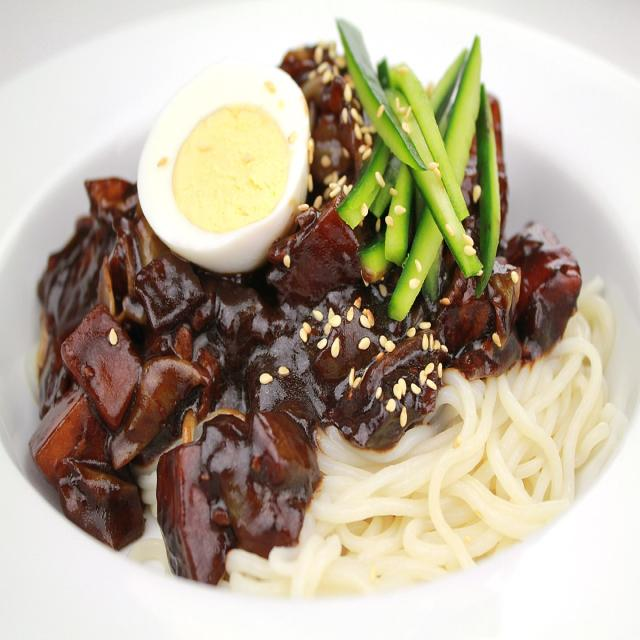carb: (227, 280, 627, 597)
meat: (139, 61, 314, 275)
vegetable: (159, 198, 444, 584), (31, 181, 215, 550), (337, 20, 501, 322)
